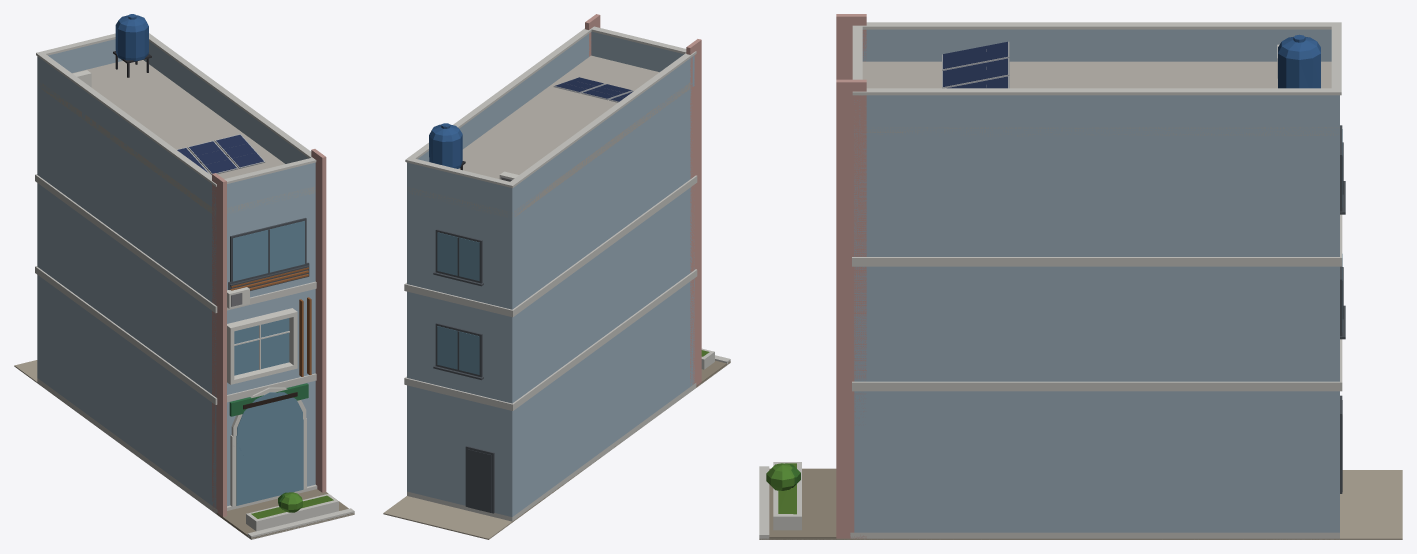
File: bay1_mid.glb
3 renders of one model, left to right at view 1: azimuth 30°, elevation 25°; view 2: azimuth 150°, elevation 25°; view 3: azimuth 270°, elevation 25°, orthographic. The views are drawn at different scales.
Visible parts, largest first — view 1: body; view 2: body; view 3: body.
Part boxes in pixels (left/top/right/bottom): body: left=14, top=14, right=354, bottom=539; body: left=383, top=14, right=730, bottom=539; body: left=759, top=14, right=1402, bottom=539.
Bounding box in the file's own units: 4.12 × 13.29 × 15.9.
